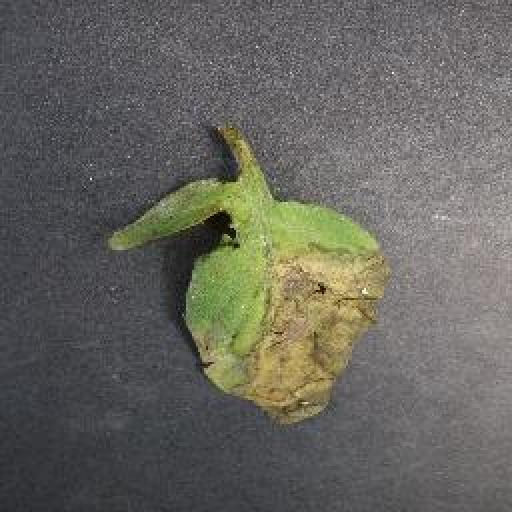Late Blight: (109, 177, 388, 428)
